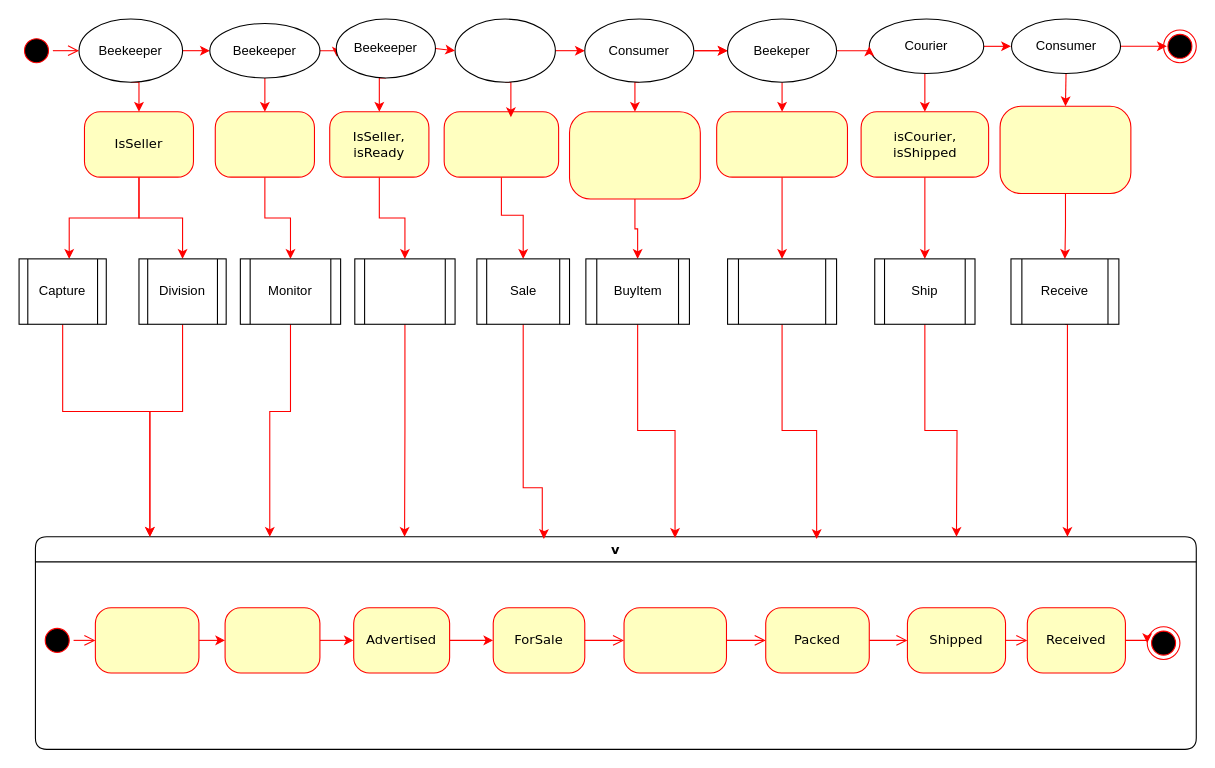
The diagram is 1215 pixels wide and 768 high, and some of its shapes have lost their labels. Each missing label, with the centre of its shape:
Advertise: the point at 404,291
Created: the point at 146,640
E-commerce: the point at 504,50
isAnnouncer, isAdvertised: the point at 501,144
isConsumer, isCheckItem, isReceived: the point at 1065,149
isConsumer, isForSale, isPaidEnough, isCheckValue: the point at 634,155
IsSeller, isCreated: the point at 264,144
isSeller, isSold: the point at 781,144
Pack: the point at 781,291
Ready: the point at 272,640
Sold: the point at 674,640
